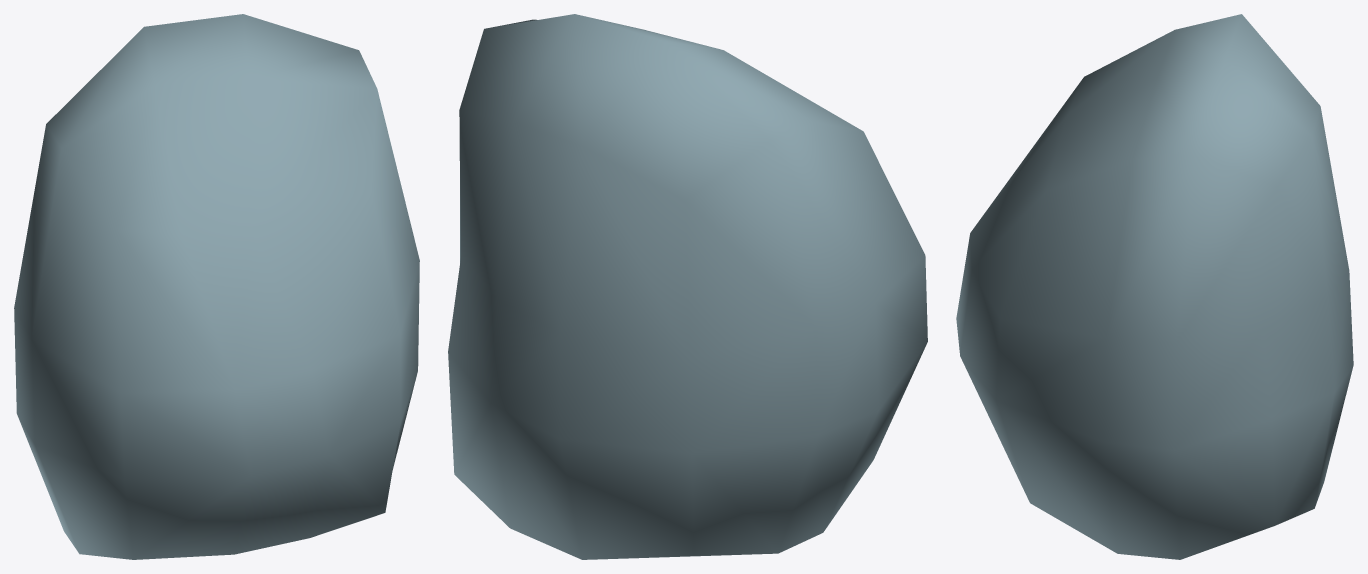
The model's file is Rock_A_05_LOD2.gltf.
3 renders of one model, left to right at view 1: azimuth 30°, elevation 25°; view 2: azimuth 150°, elevation 25°; view 3: azimuth 270°, elevation 25°, orthographic. The views are drawn at different scales.
Visible parts, largest first — view 1: Rock_A_05_LOD2_Cube.740; view 2: Rock_A_05_LOD2_Cube.740; view 3: Rock_A_05_LOD2_Cube.740.
Part boxes in pixels (<box>): Rock_A_05_LOD2_Cube.740: <box>14,14,419,559</box>; Rock_A_05_LOD2_Cube.740: <box>448,14,927,559</box>; Rock_A_05_LOD2_Cube.740: <box>956,14,1353,559</box>.
Bounding box in the file's own units: 2.83 × 3.44 × 2.62.
1 material, 1 textured.
